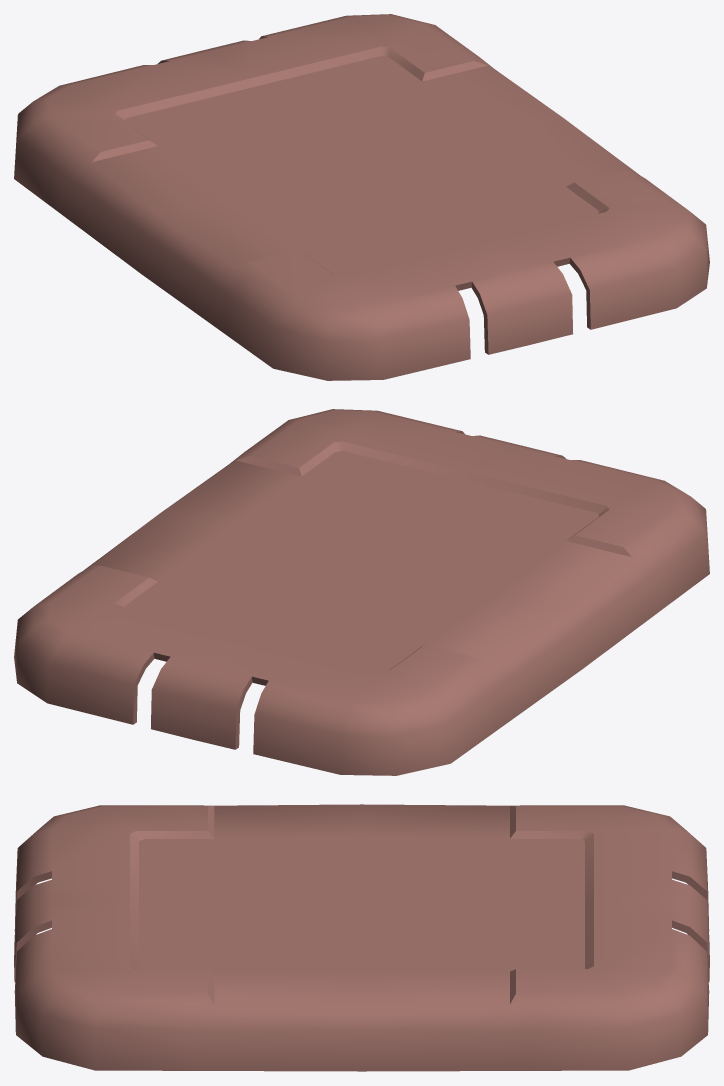
The model's file is RecyclingBin_Lid_01.fbx.
The picture shows the model from 3 angles, top to bottom: view 1: azimuth 30°, elevation 25°; view 2: azimuth 150°, elevation 25°; view 3: azimuth 270°, elevation 25°; orthographic projection. The views are drawn at different scales.
Visible parts, largest first — view 1: RecyclingBin_Lid_01; view 2: RecyclingBin_Lid_01; view 3: RecyclingBin_Lid_01.
Boxes of the visible parts, <box> form: RecyclingBin_Lid_01: <box>14,14,709,380</box>; RecyclingBin_Lid_01: <box>14,409,709,775</box>; RecyclingBin_Lid_01: <box>14,804,709,1071</box>.
Bounding box in the file's own units: 2.57 × 0.3333 × 3.41.
